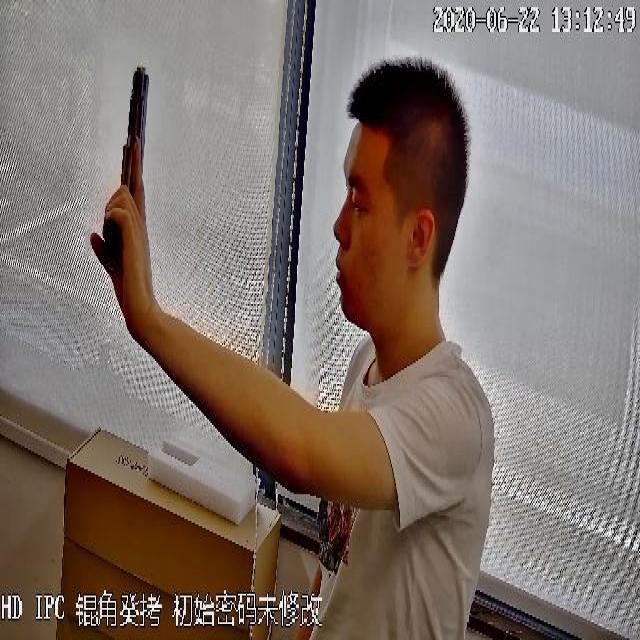pistol: (98, 62, 160, 284)
